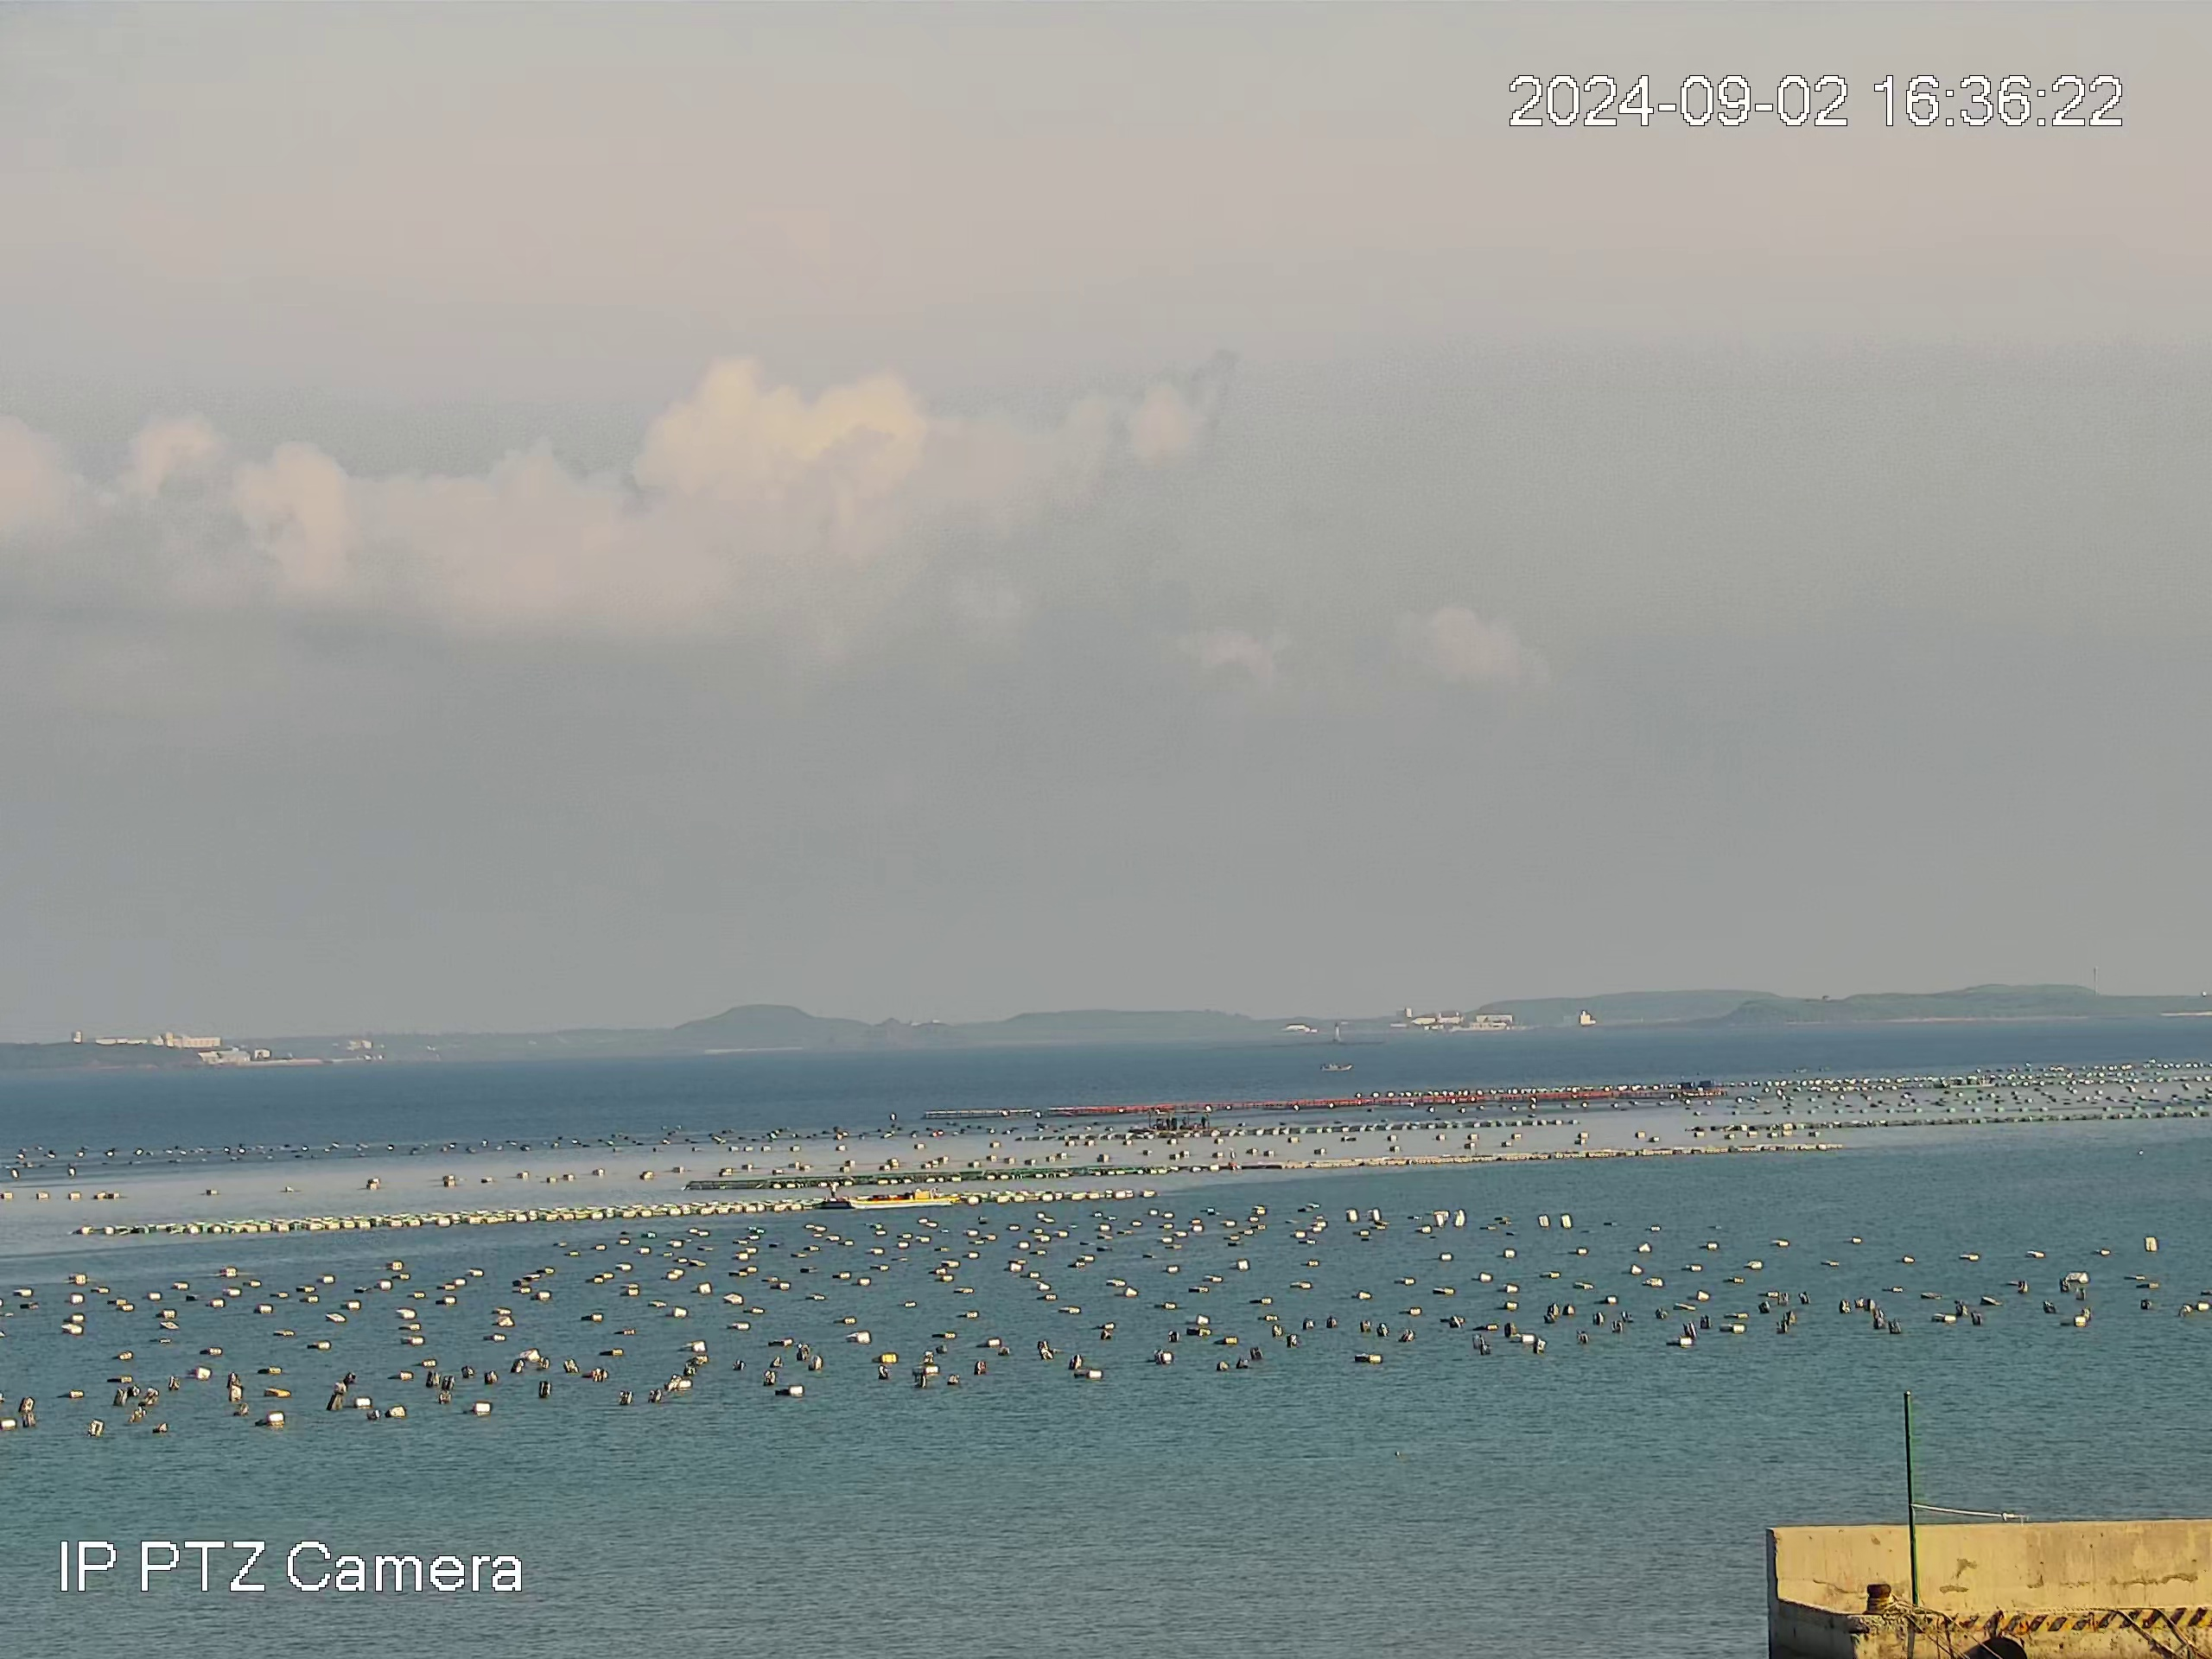boat: (843, 1187, 960, 1211), (1148, 1105, 1214, 1133), (1318, 1061, 1352, 1073)
